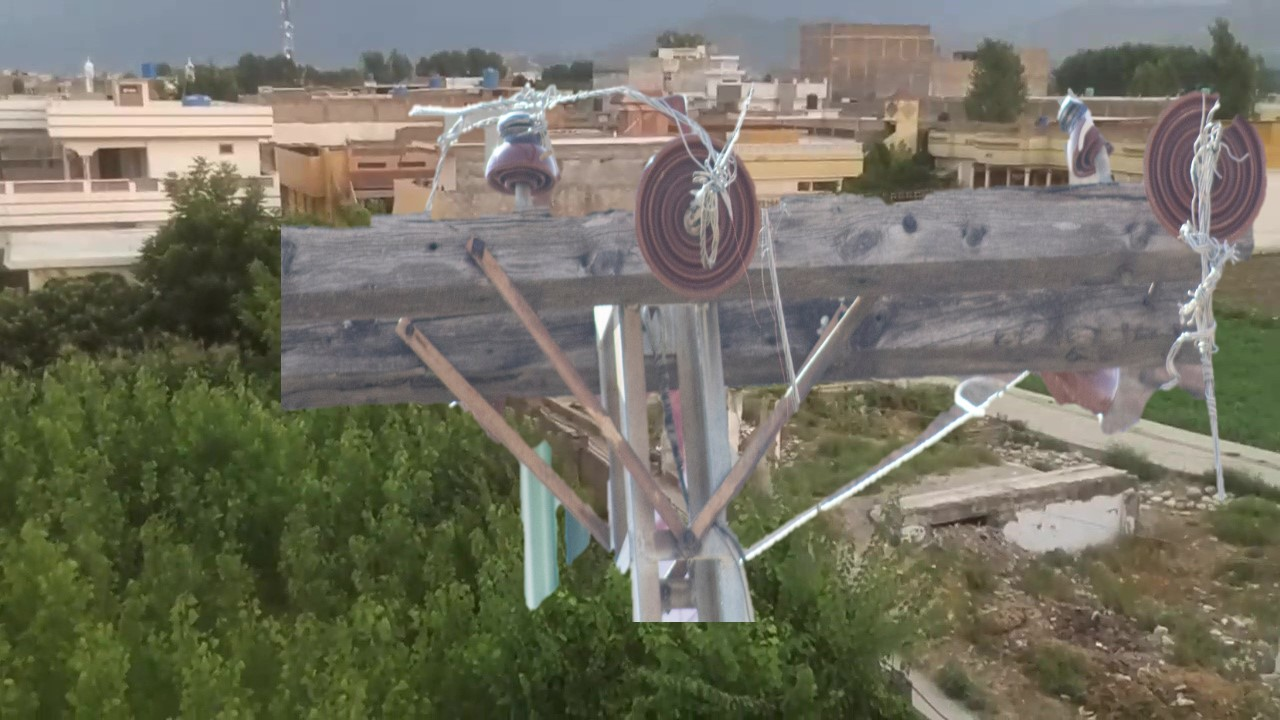defect_pin: (1049, 80, 1122, 191)
insulator_disc: (632, 129, 767, 295), (1139, 82, 1270, 253)
insulator_pin: (469, 100, 563, 207)
